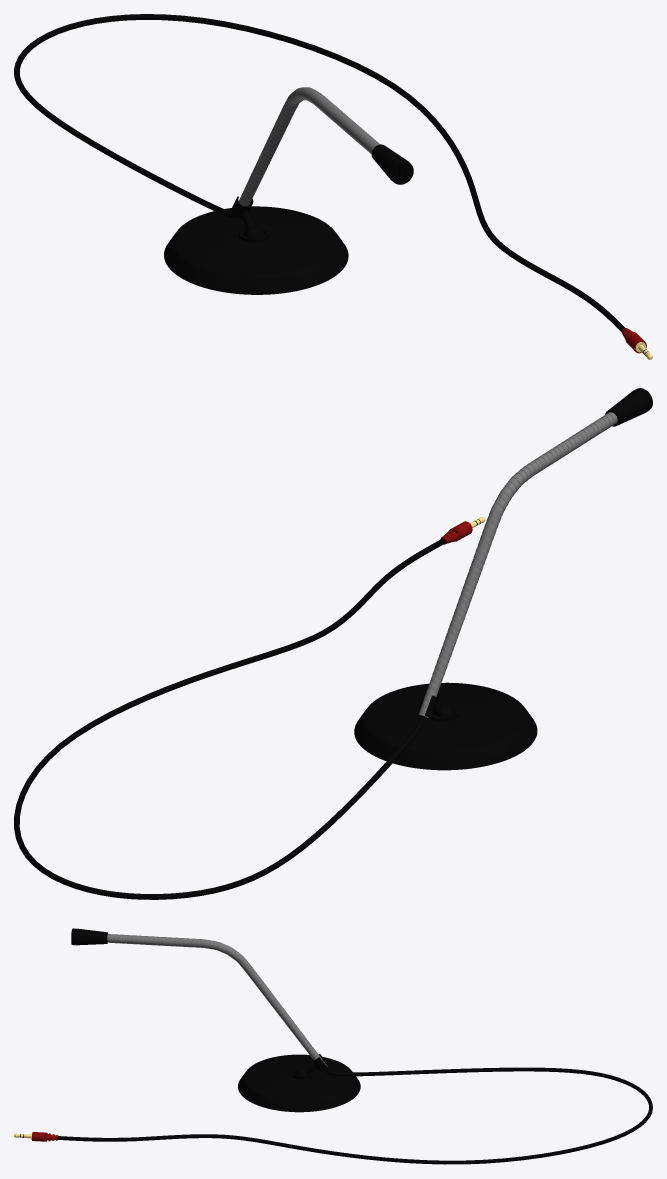
The model's file is microphone.fbx.
The picture shows the model from 3 angles, top to bottom: view 1: azimuth 30°, elevation 25°; view 2: azimuth 150°, elevation 25°; view 3: azimuth 270°, elevation 25°; orthographic projection. The views are drawn at different scales.
Visible parts, largest first — view 1: microphone_obj; view 2: microphone_obj; view 3: microphone_obj.
Boxes of the visible parts, <box> form: microphone_obj: <box>14,14,652,359</box>; microphone_obj: <box>14,388,652,899</box>; microphone_obj: <box>14,928,652,1164</box>.
Bounding box in the file's own units: 31.31 × 19.64 × 76.27.
